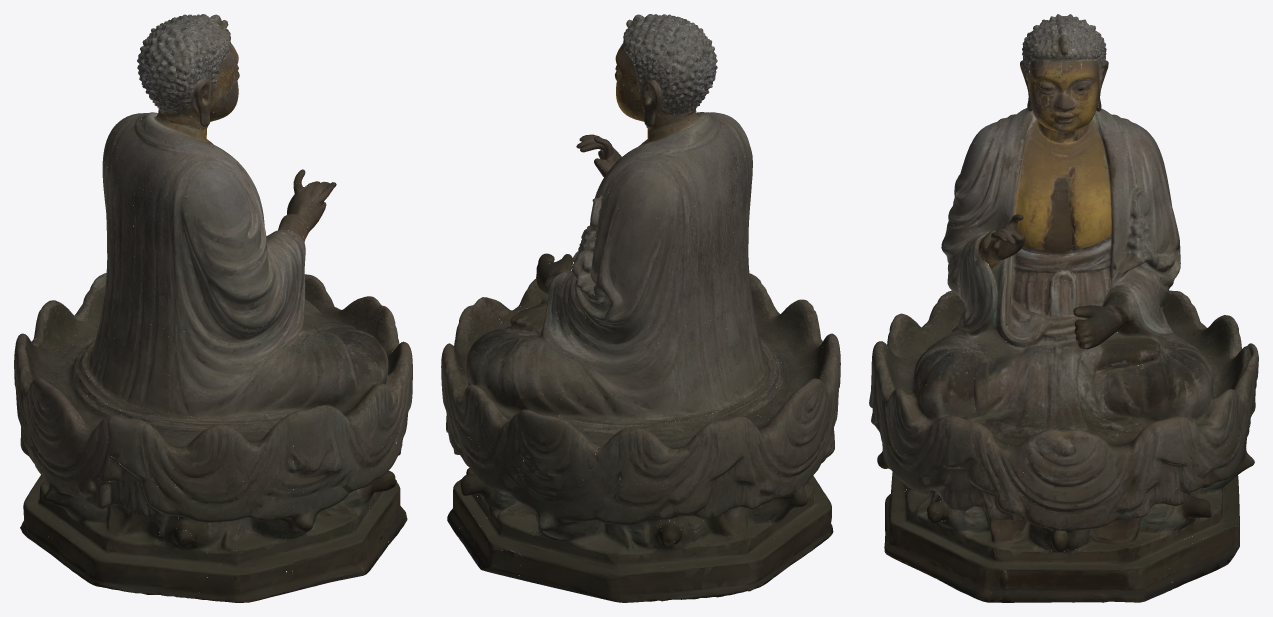
File: f3-amoghasiddhi.glb
The picture shows the model from 3 angles, left to right: view 1: azimuth 30°, elevation 25°; view 2: azimuth 150°, elevation 25°; view 3: azimuth 270°, elevation 25°; orthographic projection. The views are drawn at different scales.
Parts seen in each view (by area): view 1: tripo_node_77eab011-45dd-4fb9-a664-9393de136082; view 2: tripo_node_77eab011-45dd-4fb9-a664-9393de136082; view 3: tripo_node_77eab011-45dd-4fb9-a664-9393de136082.
Part boxes in pixels (bbox=[...]): tripo_node_77eab011-45dd-4fb9-a664-9393de136082: bbox=[14, 14, 412, 602]; tripo_node_77eab011-45dd-4fb9-a664-9393de136082: bbox=[441, 14, 840, 602]; tripo_node_77eab011-45dd-4fb9-a664-9393de136082: bbox=[869, 14, 1258, 602].
Bounding box in the file's own units: 0.6973 × 1 × 0.7072.
1 material, 1 textured.
